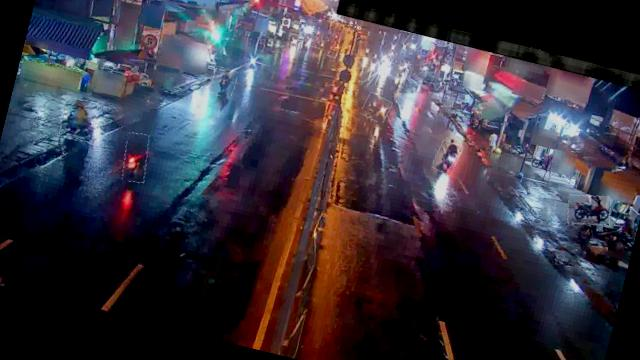Bike: (57, 96, 100, 144), (564, 190, 613, 231), (118, 132, 154, 184), (432, 140, 462, 176), (208, 66, 238, 99), (361, 93, 392, 124)
